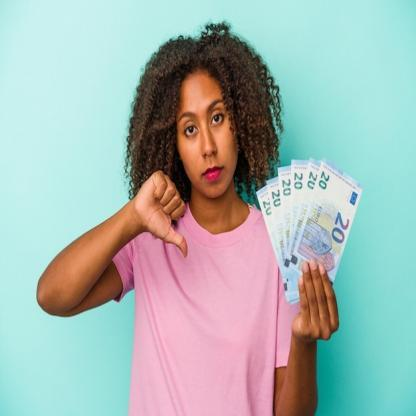thumb_down: (132, 166, 194, 260)
